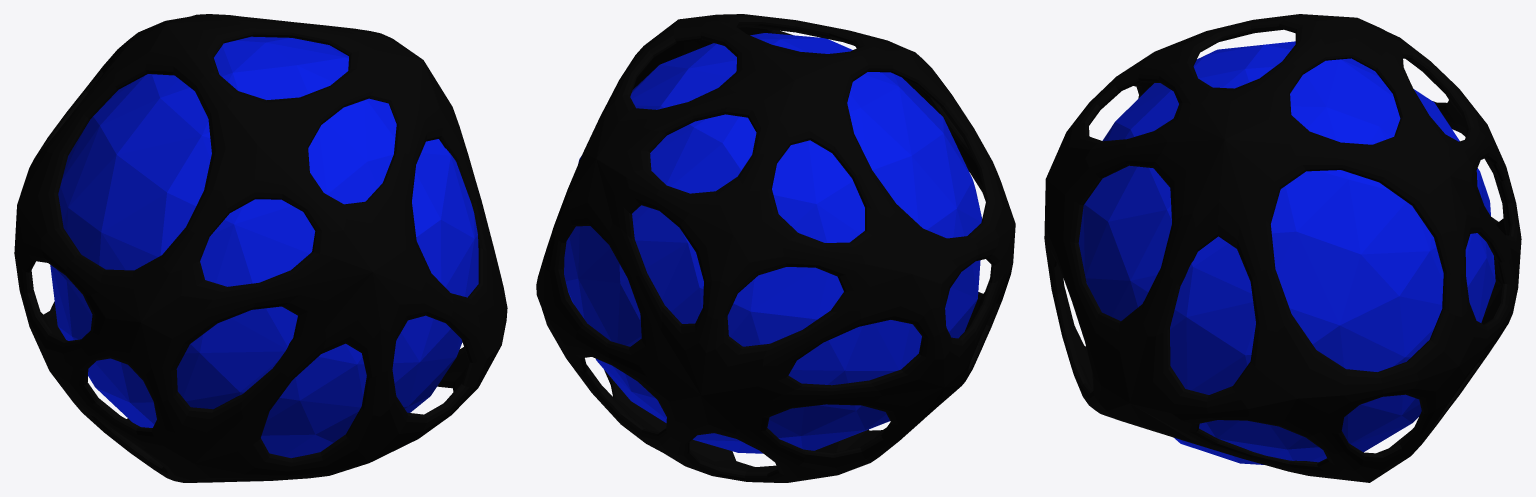
File: glow stone.fbx
3 views of the same model, side by side, from view 1: azimuth 30°, elevation 25°; view 2: azimuth 150°, elevation 25°; view 3: azimuth 270°, elevation 25° (orthographic). The views are drawn at different scales.
Parts seen in each view (by area): view 1: Roundcube.053, Roundcube.052; view 2: Roundcube.053, Roundcube.052; view 3: Roundcube.053, Roundcube.052.
Part boxes in pixels (bbox=[...]): Roundcube.053: bbox=[14, 14, 507, 482]; Roundcube.052: bbox=[50, 36, 478, 458]; Roundcube.053: bbox=[536, 14, 1015, 482]; Roundcube.052: bbox=[564, 33, 981, 453]; Roundcube.053: bbox=[1044, 14, 1521, 482]; Roundcube.052: bbox=[1078, 41, 1495, 464].
Size of the model in its own units: 291 by 292 by 296.
